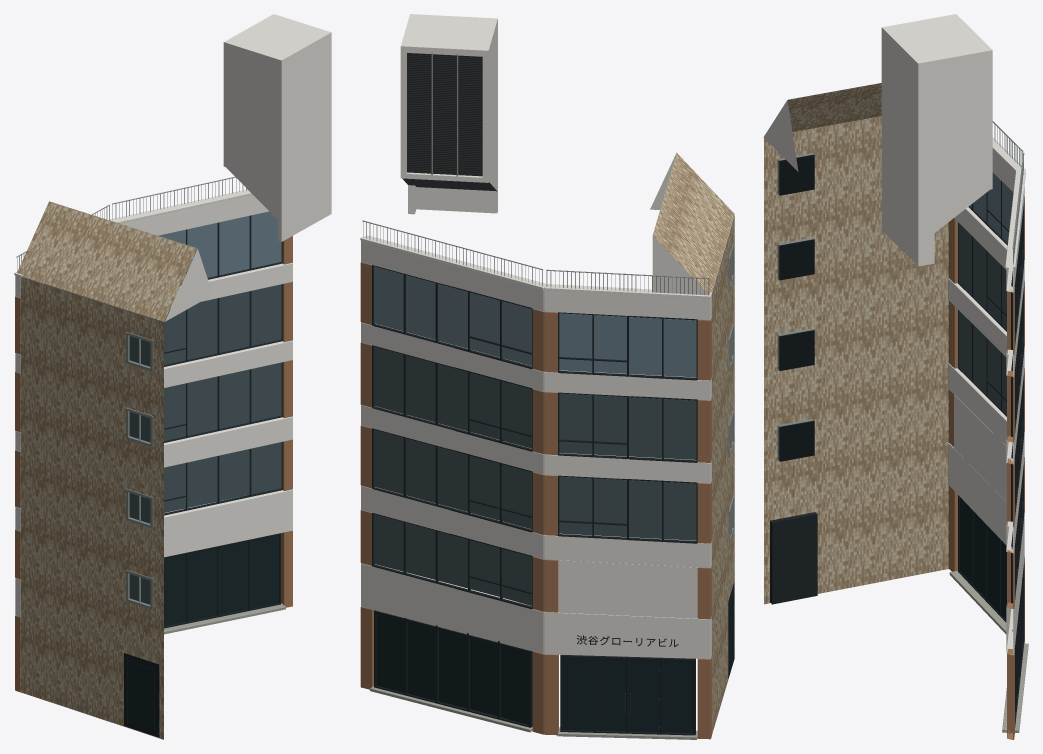
The model's file is d19-gloria-frontage.glb.
3 views of the same model, side by side, from view 1: azimuth 30°, elevation 25°; view 2: azimuth 150°, elevation 25°; view 3: azimuth 270°, elevation 25° (orthographic). The views are drawn at different scales.
Parts seen in each view (by area): view 1: A_inferred_tile_continuity_under_omitted_board; view 2: A_inferred_tile_continuity_under_omitted_board; view 3: A_inferred_tile_continuity_under_omitted_board.
Part boxes in pixels (x1,y1,x2,y2): A_inferred_tile_continuity_under_omitted_board: (14,14,331,739); A_inferred_tile_continuity_under_omitted_board: (360,14,734,739); A_inferred_tile_continuity_under_omitted_board: (763,14,1028,739).
Size of the model in its own units: 11.79 by 22.39 by 7.98.
1 material, 1 textured.
